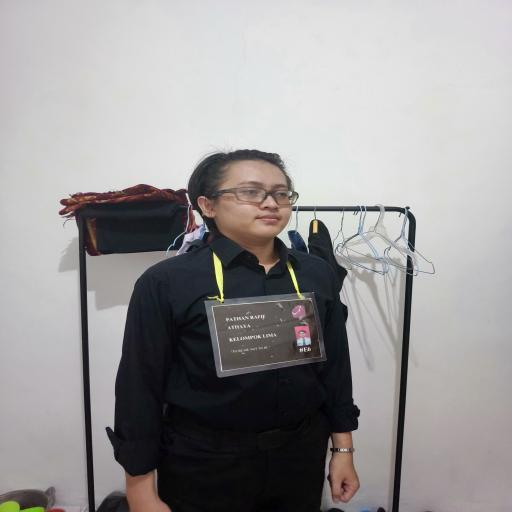celana_benar: (150, 446, 335, 512)
kemeja_salah: (120, 255, 366, 434)
nametag_ada: (193, 279, 336, 384)
sabuk_ada: (158, 423, 332, 454)
